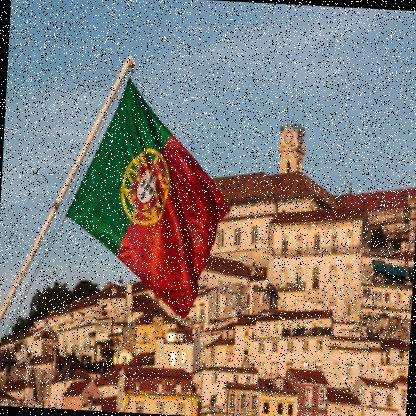pt: (61, 74, 238, 322)
